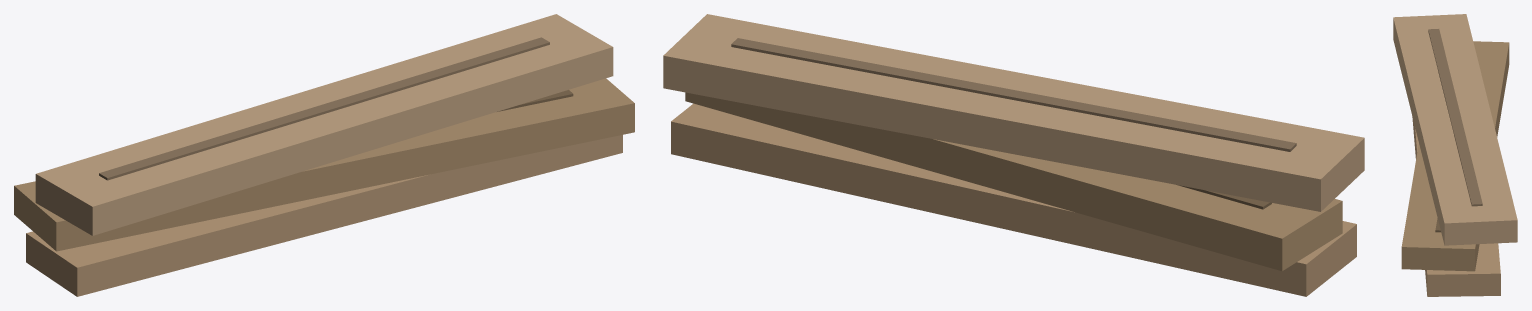
File: 16-Crafting_tablon_madera.glb
3 renders of one model, left to right at view 1: azimuth 30°, elevation 25°; view 2: azimuth 150°, elevation 25°; view 3: azimuth 270°, elevation 25°, orthographic. The views are drawn at different scales.
Parts seen in each view (by area): view 1: SM_Tablon_M_Tablon_C, SM_Tablon_M_Tablon_B, SM_Tablon_M_Tablon_A, SM_Tablon_M_Veta_3; view 2: SM_Tablon_M_Tablon_C, SM_Tablon_M_Tablon_A, SM_Tablon_M_Tablon_B, SM_Tablon_M_Veta_3, SM_Tablon_M_Veta_2; view 3: SM_Tablon_M_Tablon_C, SM_Tablon_M_Tablon_B, SM_Tablon_M_Tablon_A, SM_Tablon_M_Veta_3.
Boxes of the visible parts, x1,y1,x2,y2 form: SM_Tablon_M_Tablon_C: (35,14,613,235); SM_Tablon_M_Tablon_B: (14,78,634,251); SM_Tablon_M_Tablon_A: (26,135,622,296); SM_Tablon_M_Veta_3: (99,37,549,180); SM_Tablon_M_Tablon_C: (663,14,1364,211); SM_Tablon_M_Tablon_A: (671,103,1356,296); SM_Tablon_M_Tablon_B: (685,92,1342,271); SM_Tablon_M_Veta_3: (731,38,1296,151); SM_Tablon_M_Veta_2: (1177,185,1271,209); SM_Tablon_M_Tablon_C: (1393,14,1517,245); SM_Tablon_M_Tablon_B: (1401,41,1509,271); SM_Tablon_M_Tablon_A: (1412,117,1500,296); SM_Tablon_M_Veta_3: (1428,29,1482,206).
Bounding box in the file's own units: 1.21 × 0.2055 × 0.3044.
